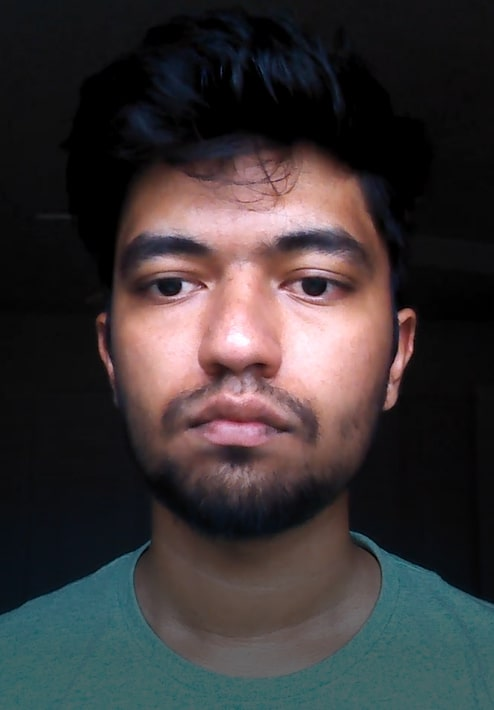Not Sleeping: (110, 237, 373, 318)
